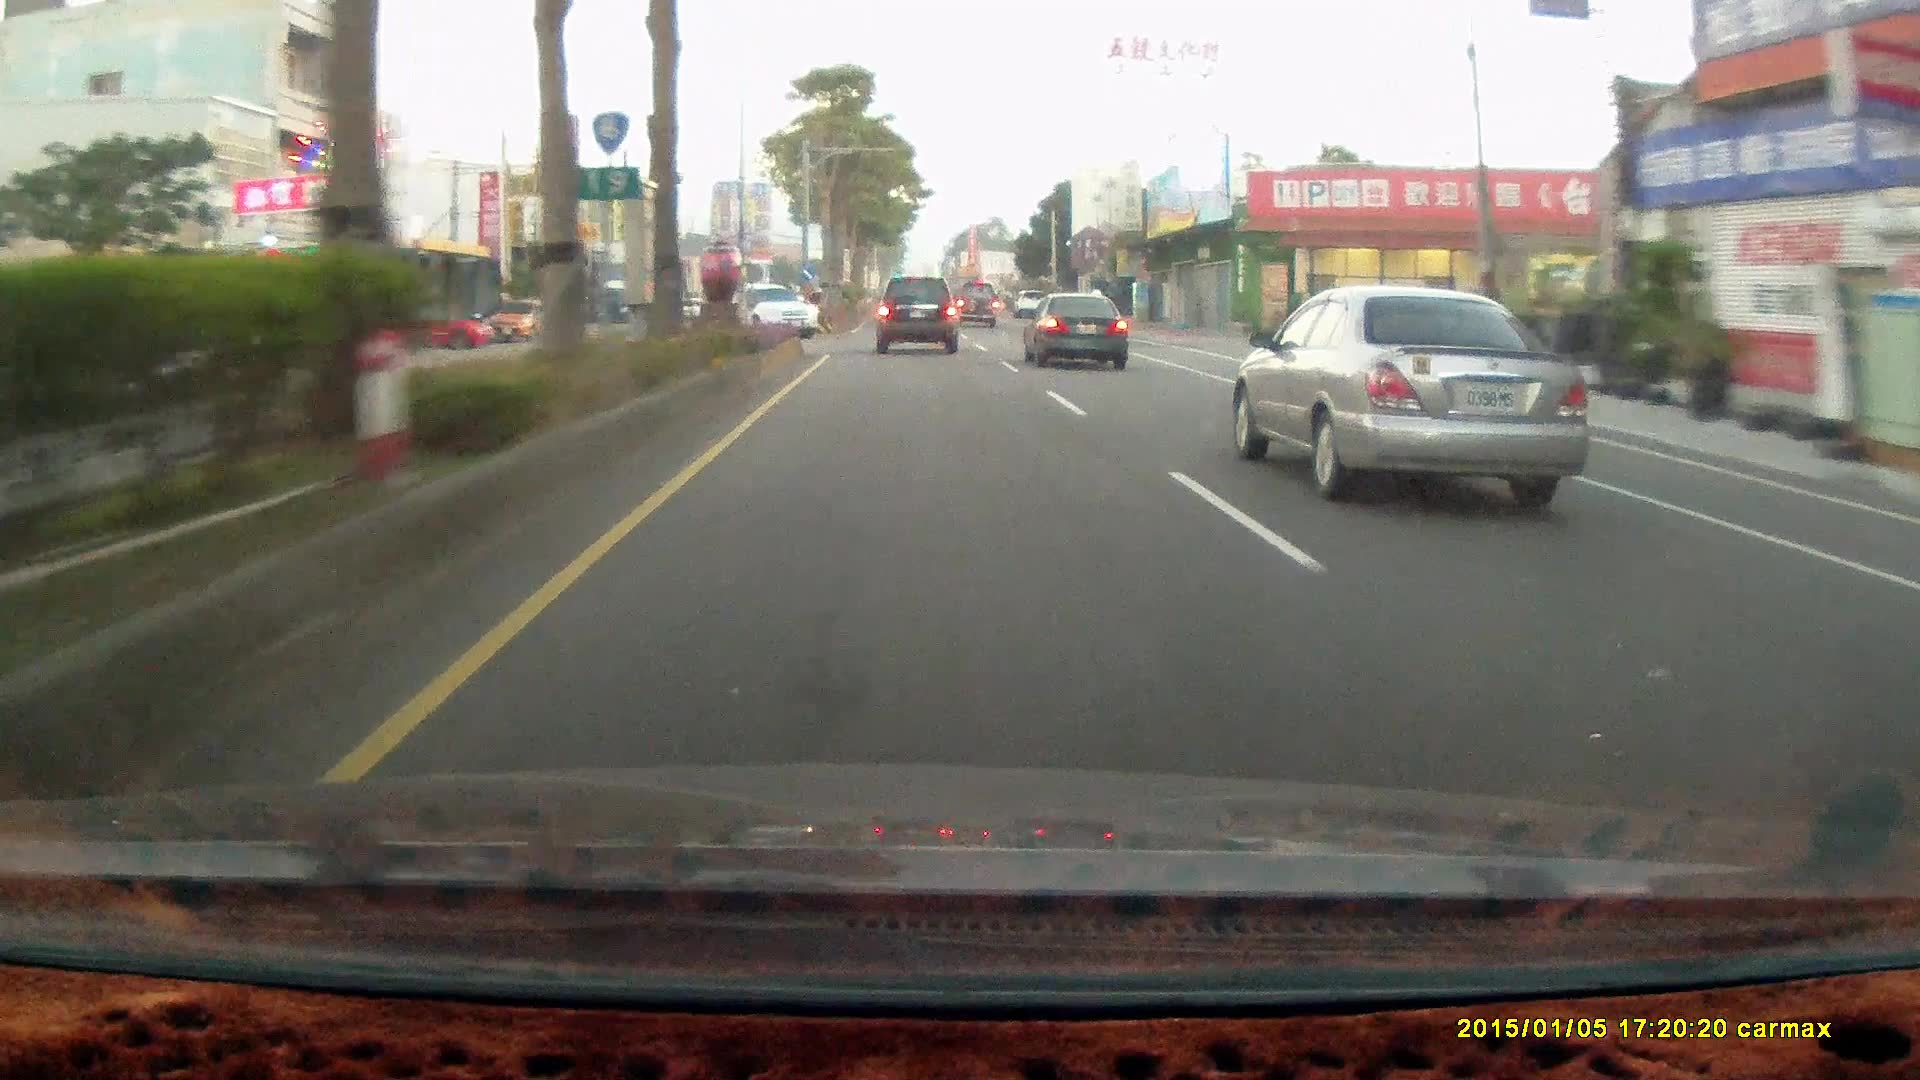vehicle: (1238, 285, 1585, 502), (1021, 291, 1131, 375), (1021, 291, 1126, 367), (876, 273, 964, 359), (353, 303, 500, 353), (353, 301, 492, 349), (873, 274, 955, 352), (736, 277, 819, 338), (744, 284, 820, 342), (951, 281, 1000, 332), (951, 281, 1000, 331)
